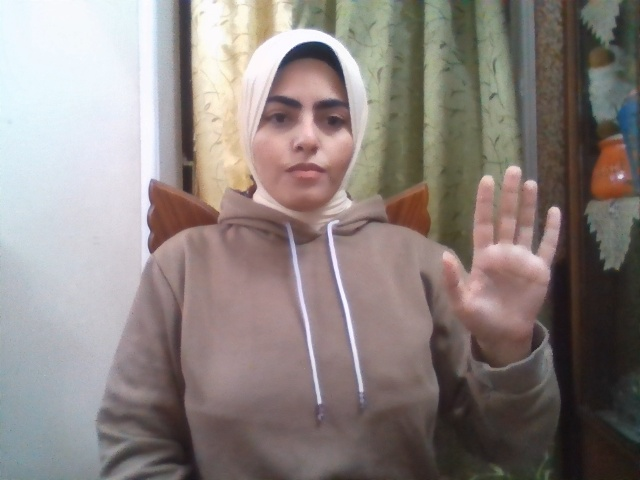hello: (442, 165, 561, 347)
